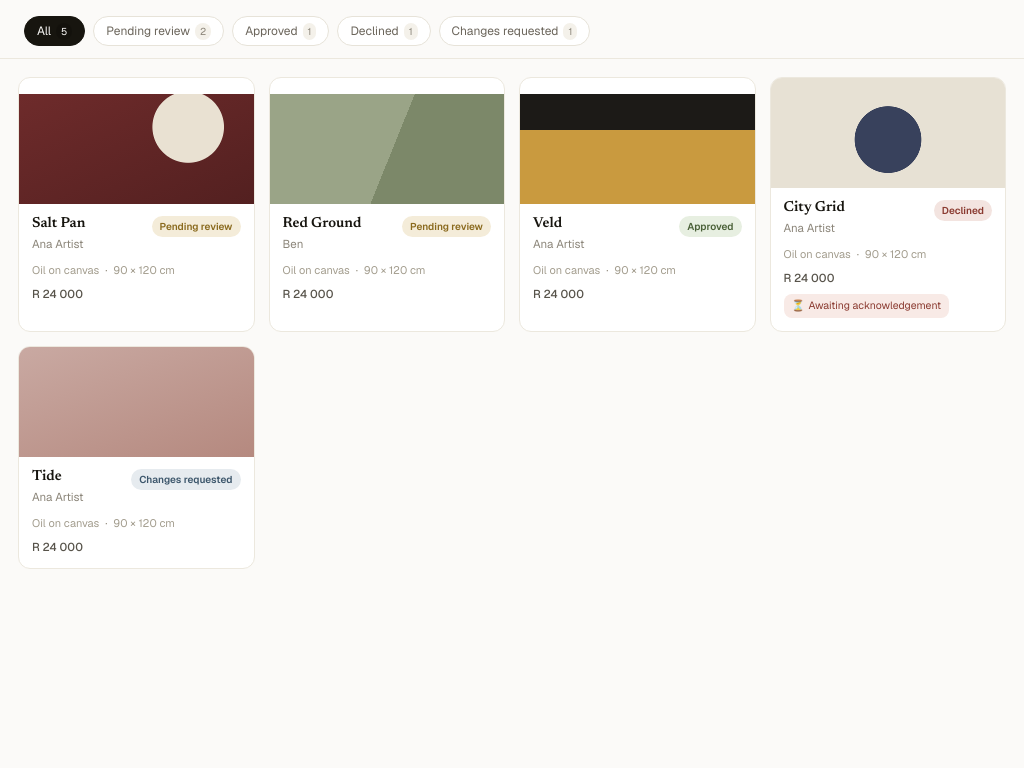
Test: SubmissionsPanel reviewing › puts the work back and reports the error when approving fails
The width and height of the screenshot is (1024, 768).
Step 1. Click the text "Salt Pan" → (59, 224), box left=32, top=215, right=85, bottom=233
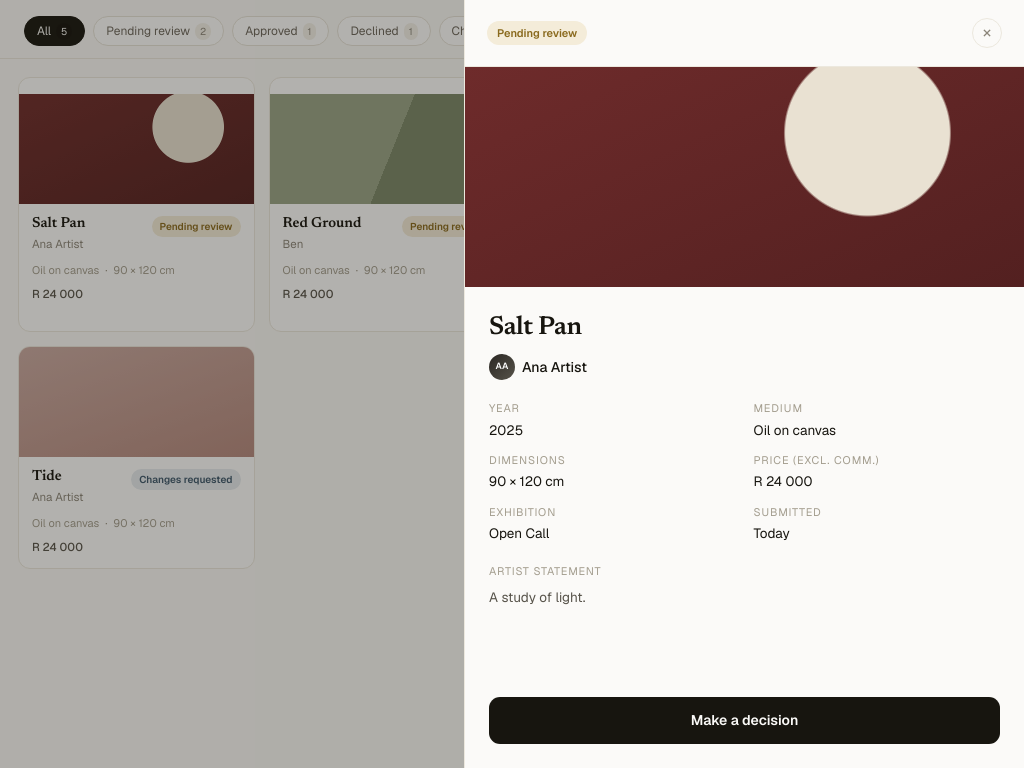
Step 2. Click the button "Make a decision" → (744, 720), box left=489, top=697, right=1000, bottom=744
(page scrolled)
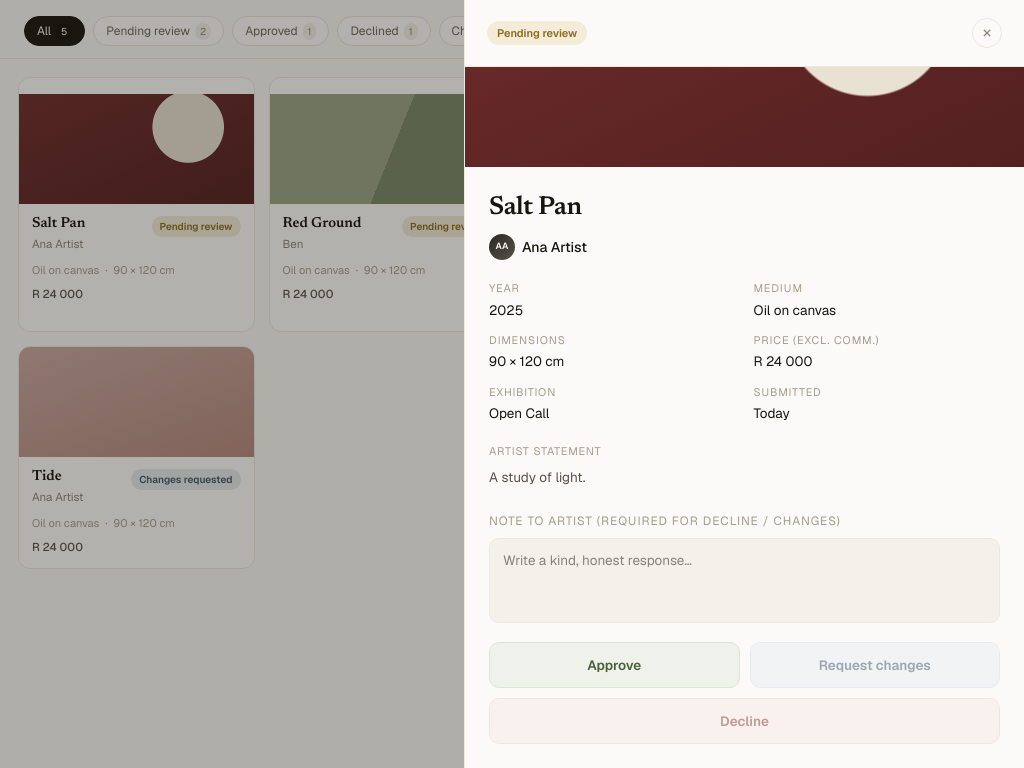
Step 3. Click the button "Approve" → (614, 665), box left=489, top=642, right=740, bottom=688
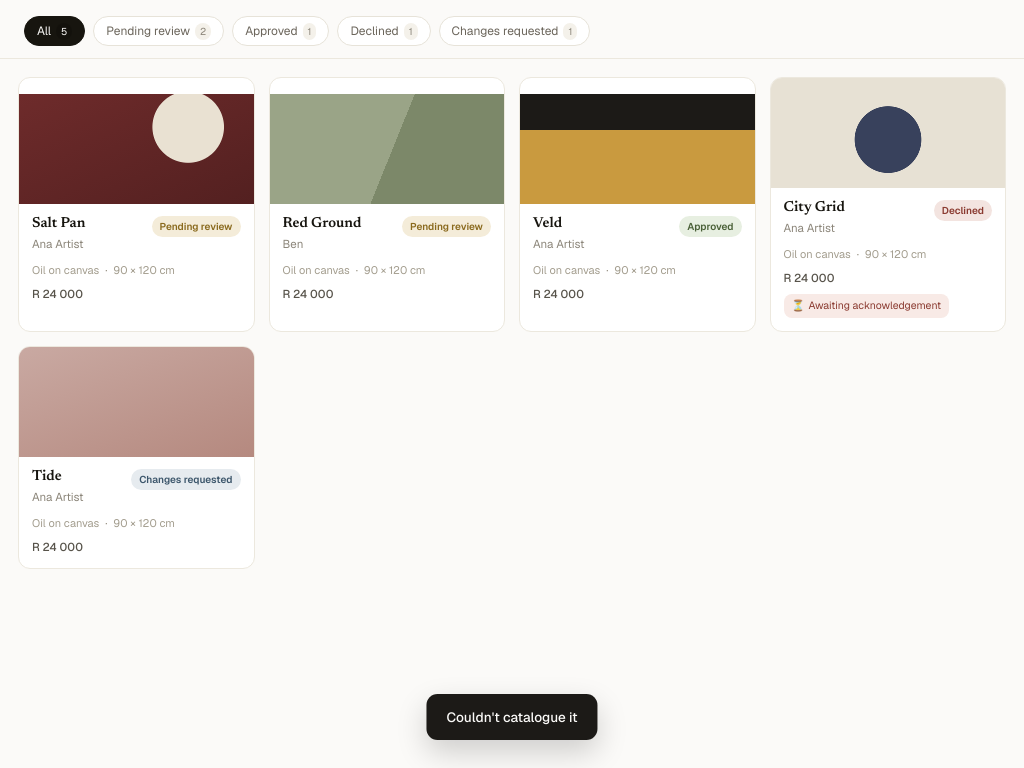
expect the button "Pending review 2" is shown: met, box left=93, top=16, right=224, bottom=46
expect the text "Couldn't catalogue it" is shown: met, box left=426, top=694, right=598, bottom=740
